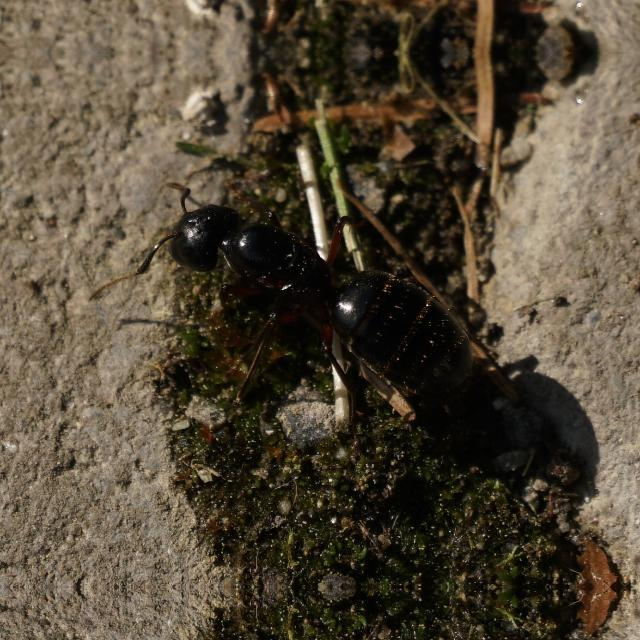Camponotus: (118, 162, 496, 412)
